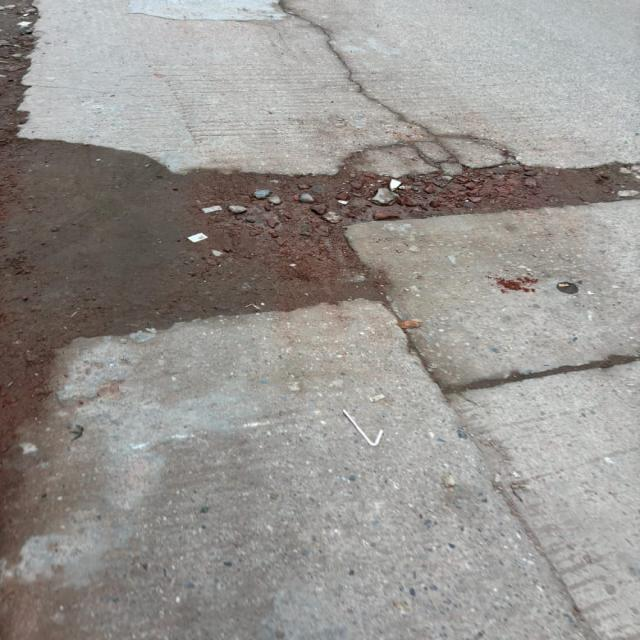Crack: (264, 0, 492, 157)
Surface Erosion: (0, 66, 640, 478)
